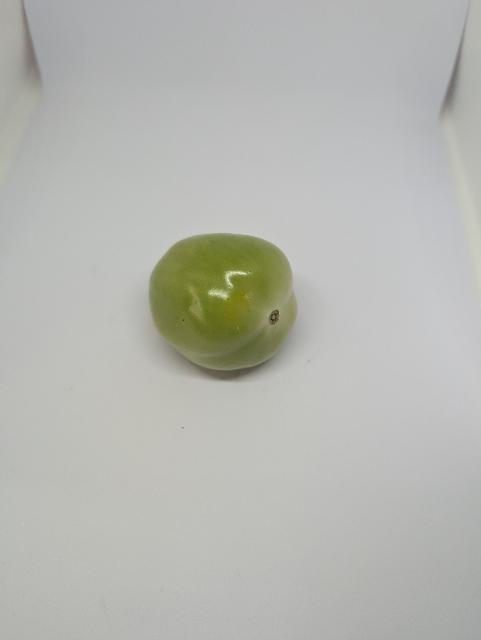green: (140, 229, 310, 379)
